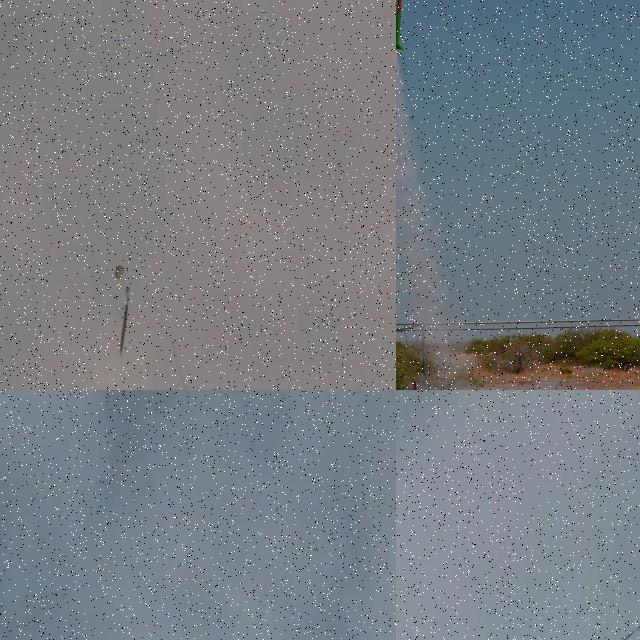Rocket: (396, 0, 407, 49), (619, 616, 640, 640), (413, 380, 425, 390)
